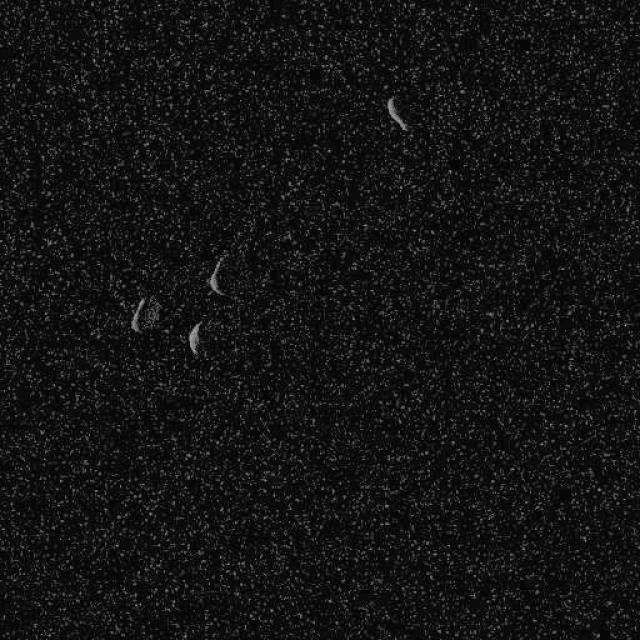D2: (129, 294, 161, 334), (206, 255, 232, 299), (385, 95, 409, 131), (186, 320, 202, 356)
